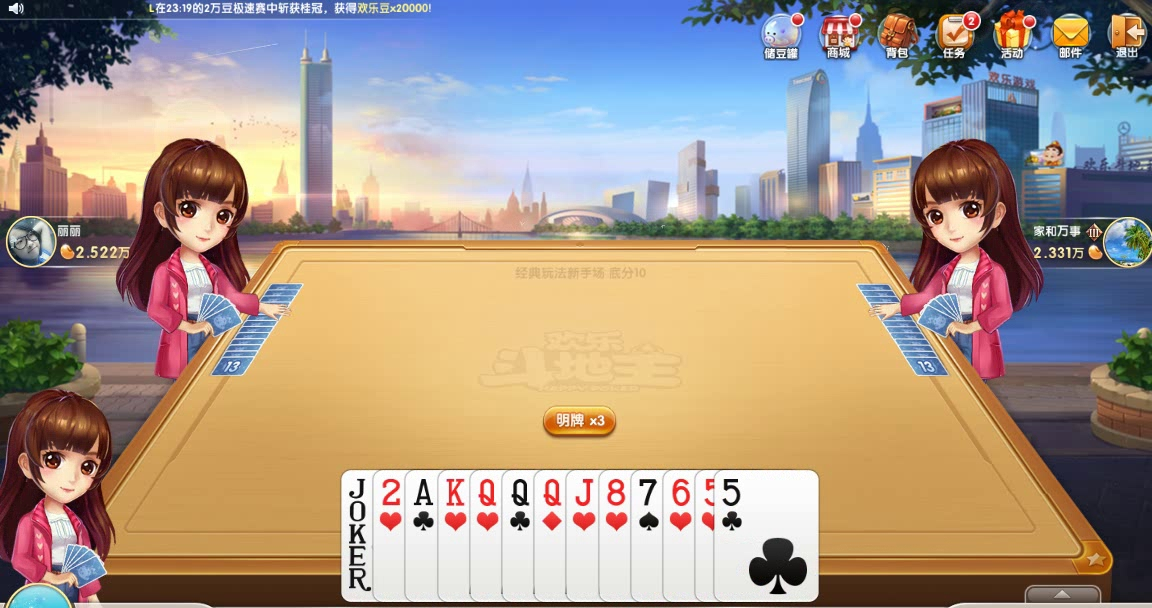11~3: (563, 468, 665, 602)
12~1: (533, 468, 635, 602)
12~2: (501, 468, 603, 602)
12~3: (469, 468, 571, 602)
13~3: (436, 468, 538, 602)
14~2: (404, 468, 506, 602)
15~3: (372, 468, 474, 602)
17~3: (340, 468, 442, 602)
5~2: (715, 468, 817, 602)
5~3: (695, 468, 797, 602)
6~3: (662, 468, 764, 602)
7~4: (630, 468, 732, 602)
8~3: (598, 468, 700, 602)
